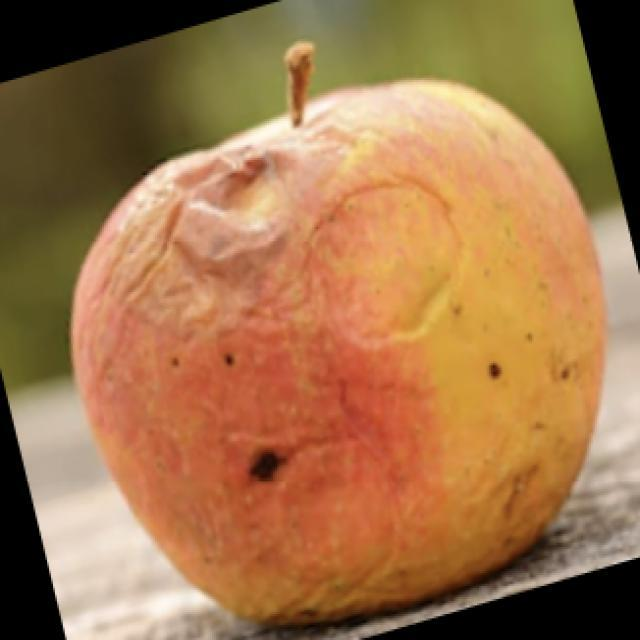Rotten: (69, 71, 615, 639)
